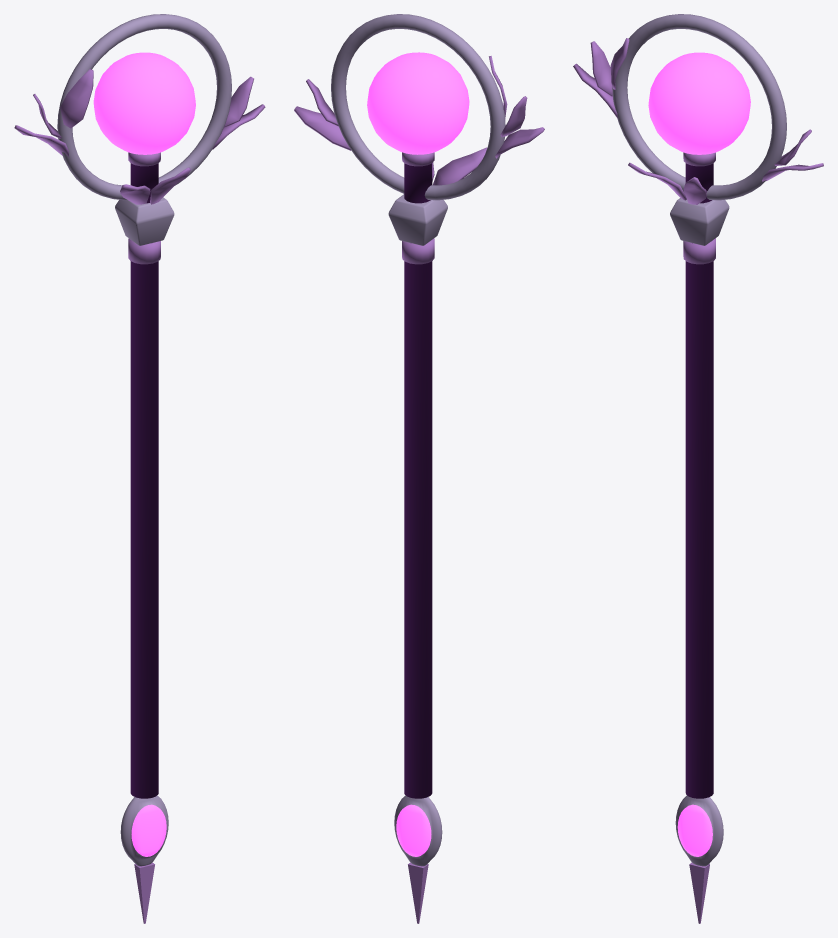
File: Crosier (1).fbx
The picture shows the model from 3 angles, left to right: view 1: azimuth 30°, elevation 25°; view 2: azimuth 150°, elevation 25°; view 3: azimuth 330°, elevation 25°; orthographic projection.
Visible parts, largest first — view 1: Crosier; view 2: Crosier; view 3: Crosier.
Part boxes in pixels (x1=…): Crosier: x1=14, y1=14, x2=265, y2=923; Crosier: x1=294, y1=14, x2=544, y2=923; Crosier: x1=573, y1=14, x2=823, y2=923.
Bounding box in the file's own units: 45.05 × 156 × 16.23.
